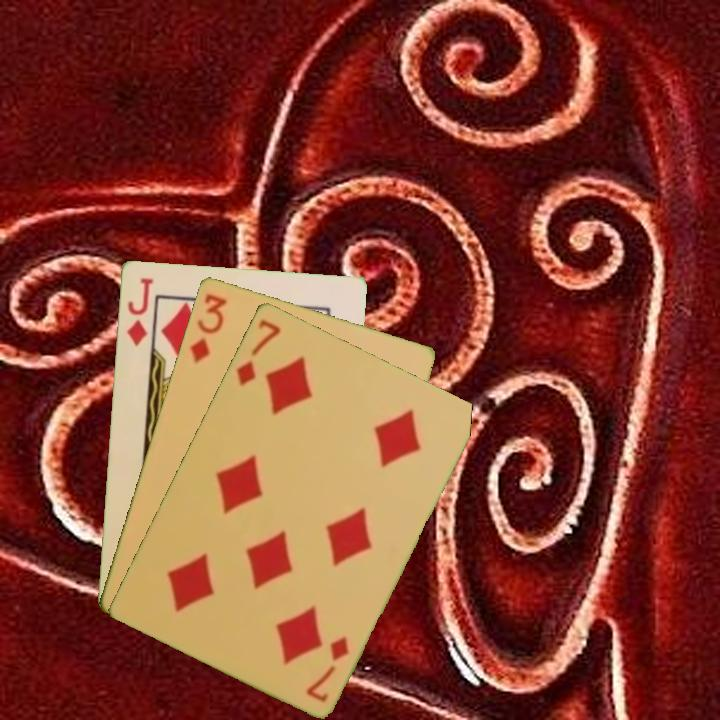3d: (186, 290, 230, 366)
7d: (232, 315, 284, 389), (302, 632, 352, 705)
Jd: (123, 273, 156, 348)
